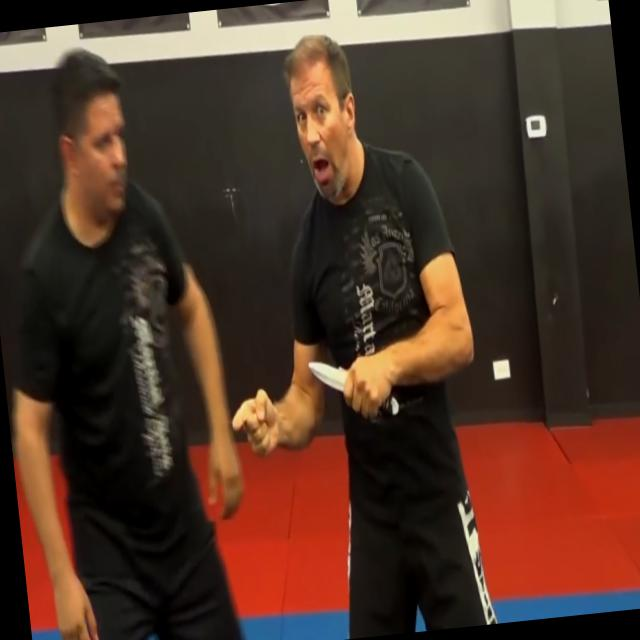knife: (301, 342, 404, 434)
